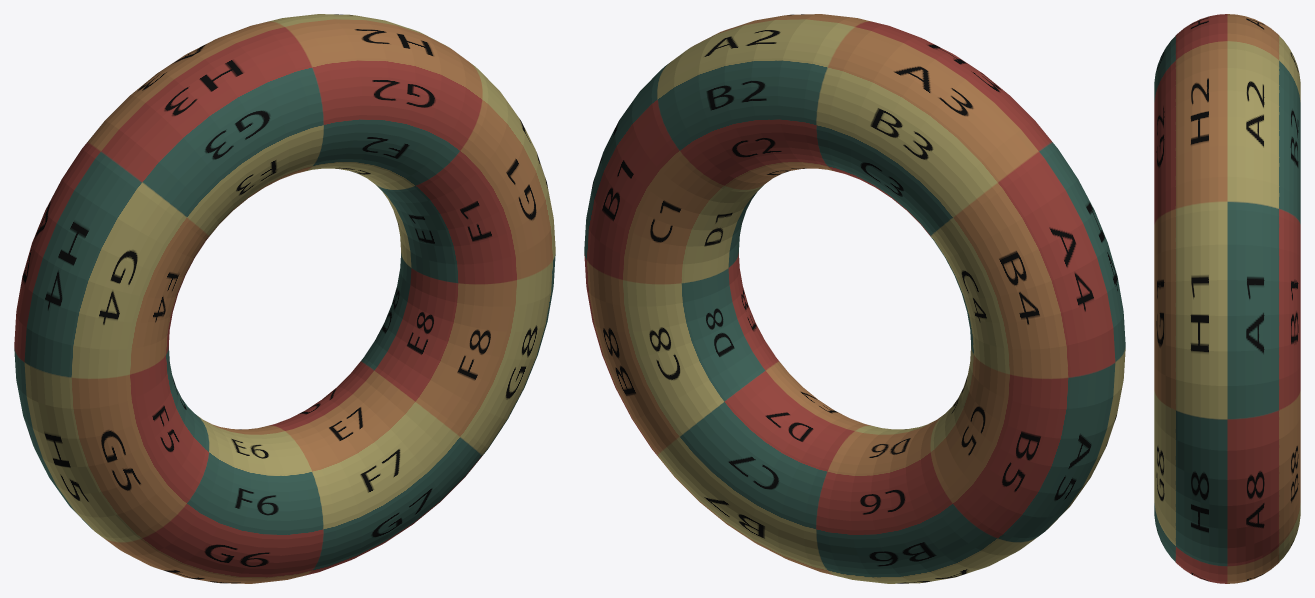
The model's file is texture_torus_R11_r15.glb.
3 renders of one model, left to right at view 1: azimuth 30°, elevation 25°; view 2: azimuth 150°, elevation 25°; view 3: azimuth 270°, elevation 25°, orthographic. The views are drawn at different scales.
Visible parts, largest first — view 1: world; view 2: world; view 3: world.
Boxes of the visible parts, x1,y1,x2,y2 form: world: [14, 14, 555, 583]; world: [584, 14, 1125, 583]; world: [1154, 14, 1300, 583].
Size of the model in its own units: 23.33 by 23.29 by 5.99.
1 material, 1 textured.
